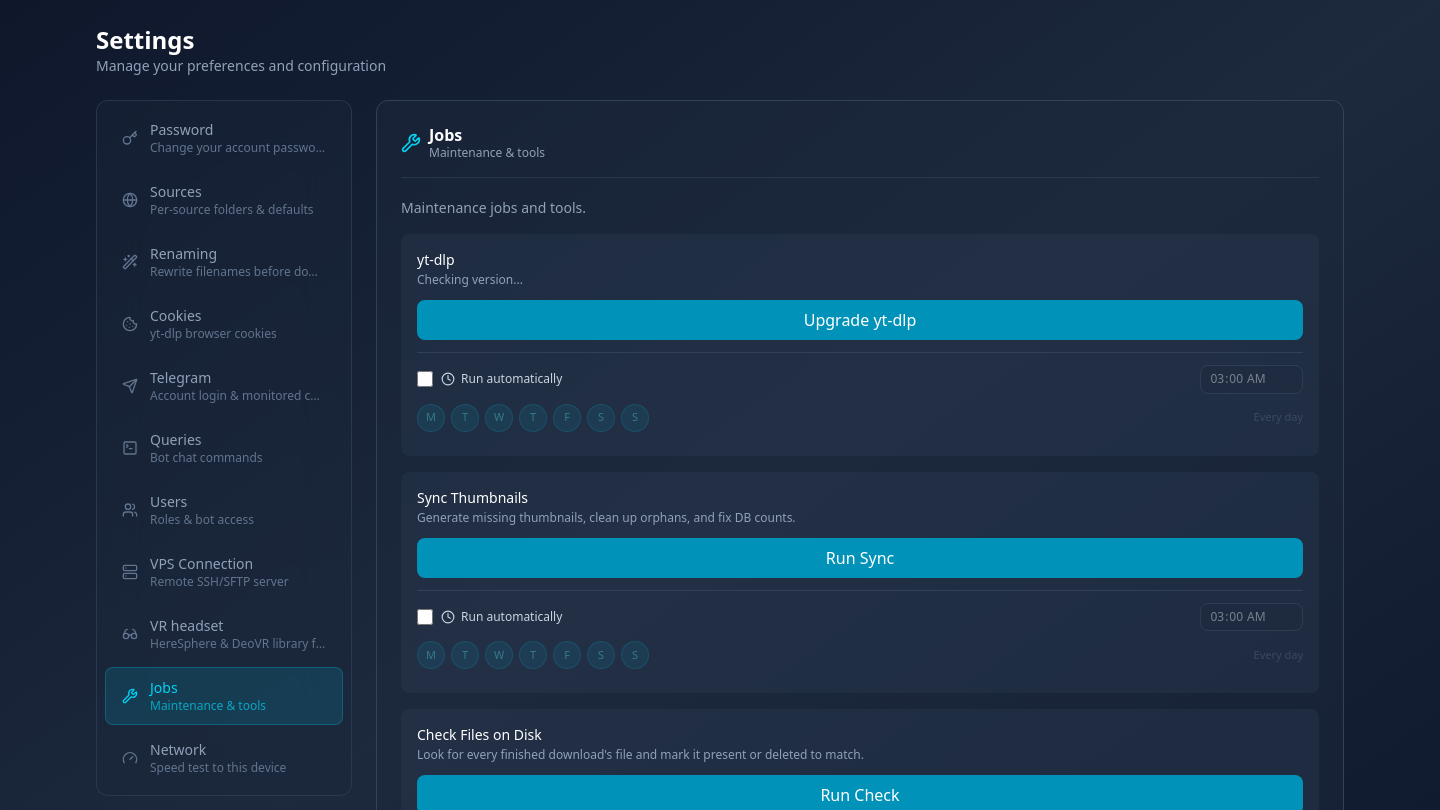
it: SettingsPage - jobs › the thumbnail sync reports its stats inline, or that everything was in sync
The width and height of the screenshot is (1440, 810).
Later steps or results of the test are not shown.
Click the button "Run Sync" at coordinates (860, 558), box [417,538,1303,578]
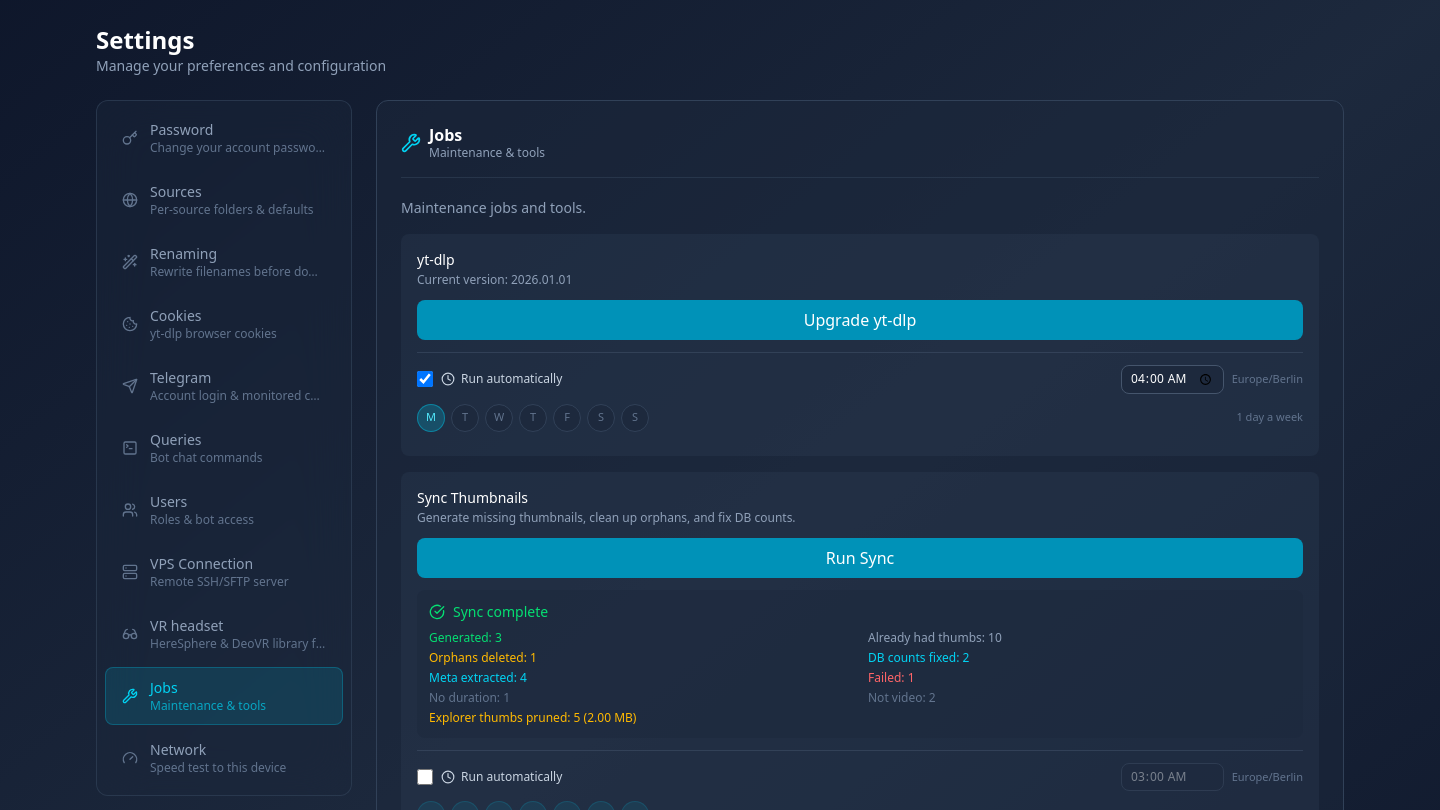
Check: the text "Sync complete" is shown, box [429,602,548,621]
Check: the text "Generated: 3" is shown, box [429,629,502,646]
Check: the text "Already had thumbs: 10" is shown, box [868,629,1002,646]
Click the button "Run Sync" at coordinates (860, 558), box [417,538,1303,578]
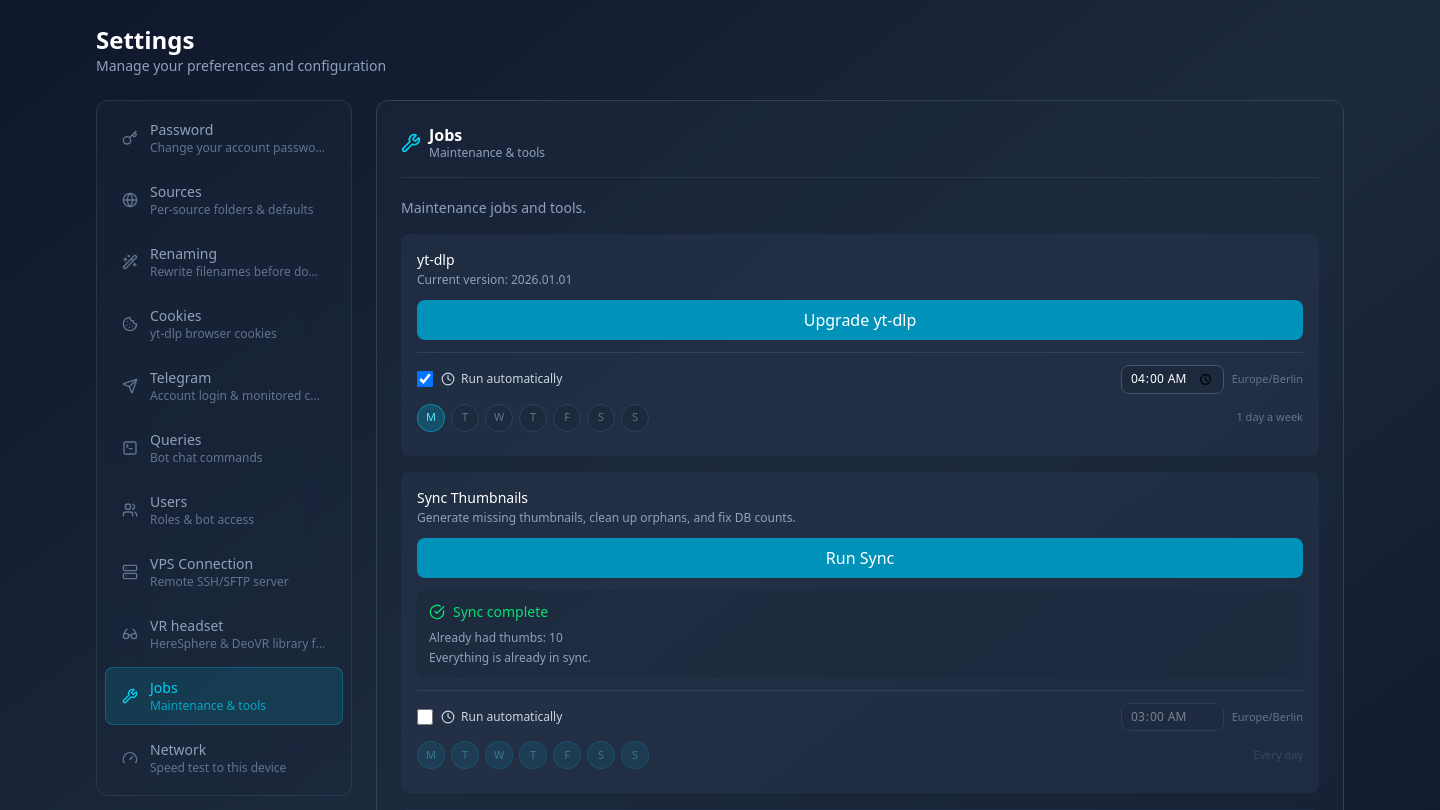
Check: the text "Everything is already in sync." is shown, box [429,649,591,666]
